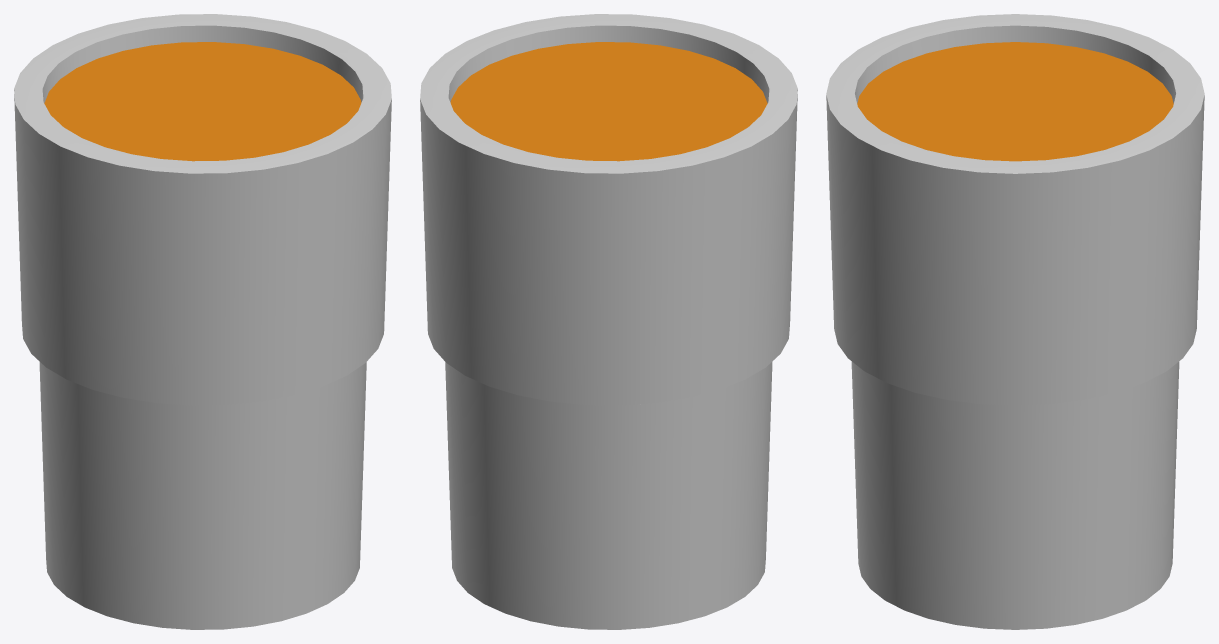
Rendered from OrangeGlass.fbx.
3 views of the same model, side by side, from view 1: azimuth 30°, elevation 25°; view 2: azimuth 150°, elevation 25°; view 3: azimuth 270°, elevation 25° (orthographic).
Parts seen in each view (by area): view 1: Cylinder; view 2: Cylinder; view 3: Cylinder.
Boxes of the visible parts, box(x1,y1,x2,y2) form: Cylinder: box(14, 14, 391, 629); Cylinder: box(420, 14, 797, 629); Cylinder: box(826, 14, 1204, 629).
Bounding box in the file's own units: 241 × 330 × 241.
